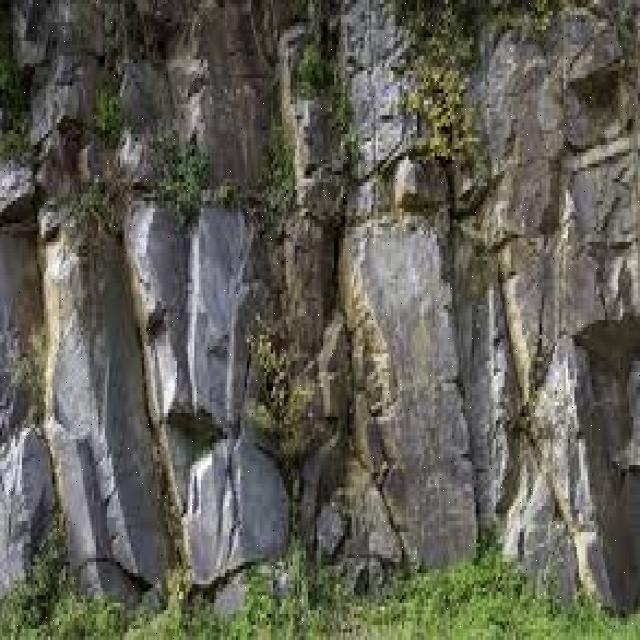Metamorphic: (2, 8, 638, 592)
